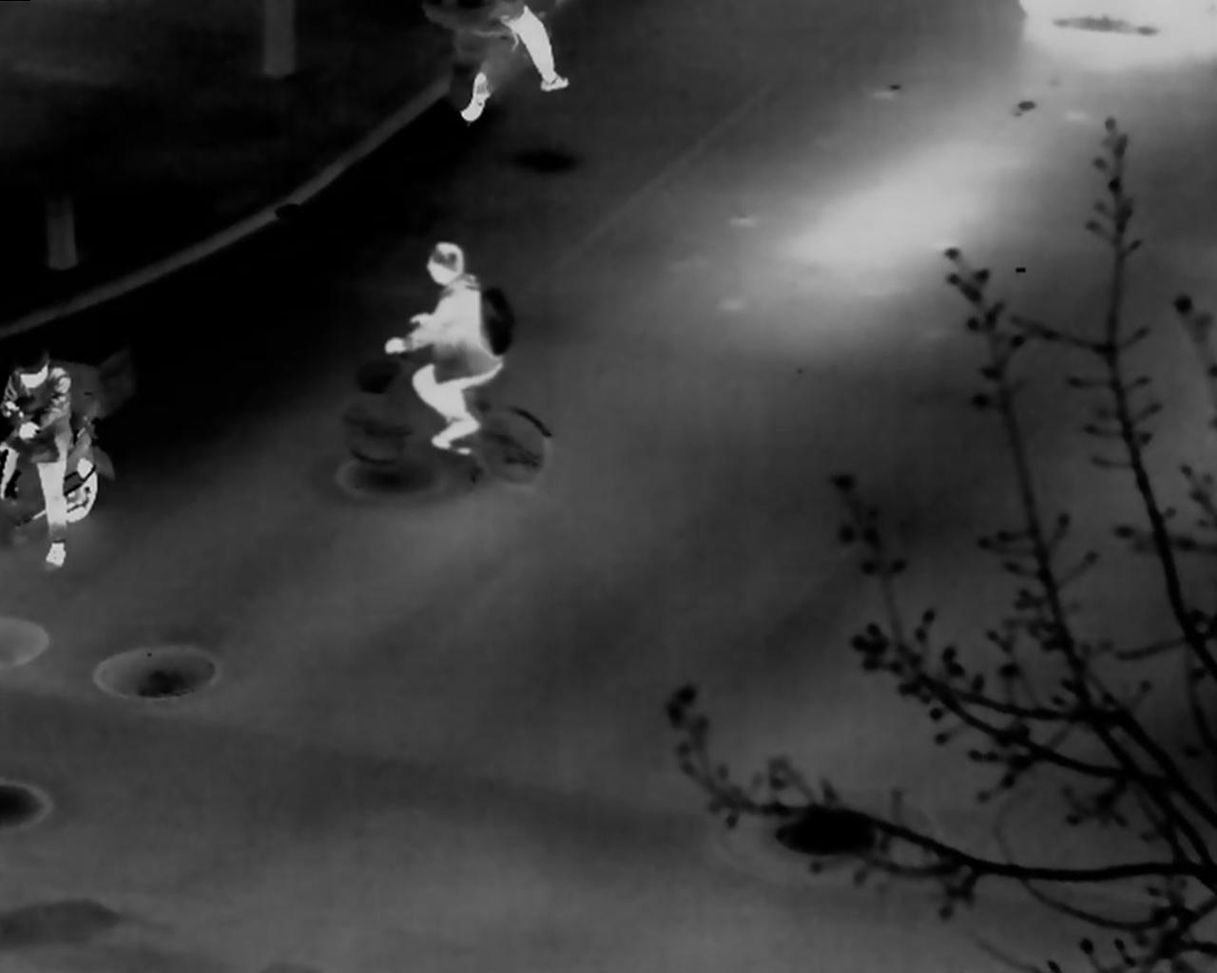person: (385, 240, 517, 448)
